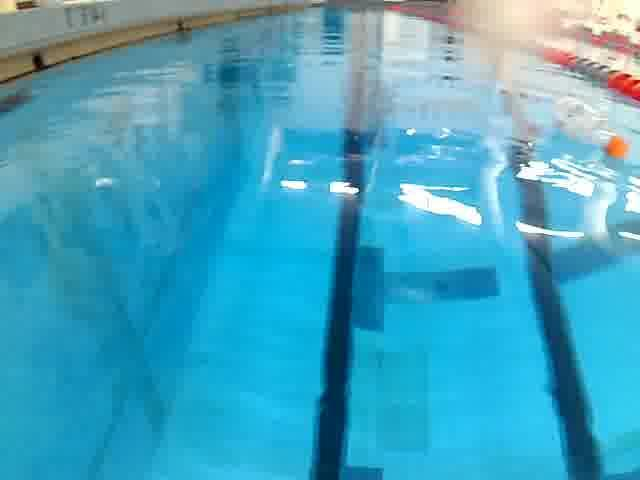Bottle: (548, 92, 634, 166)
